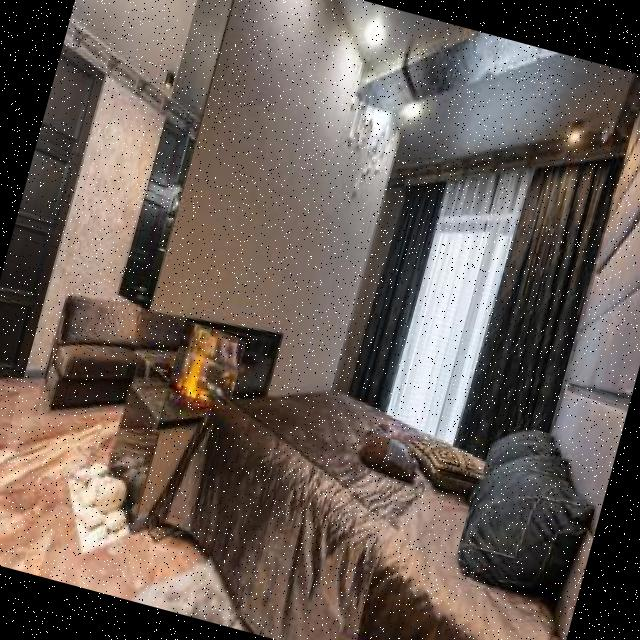fire: (166, 320, 248, 407)
